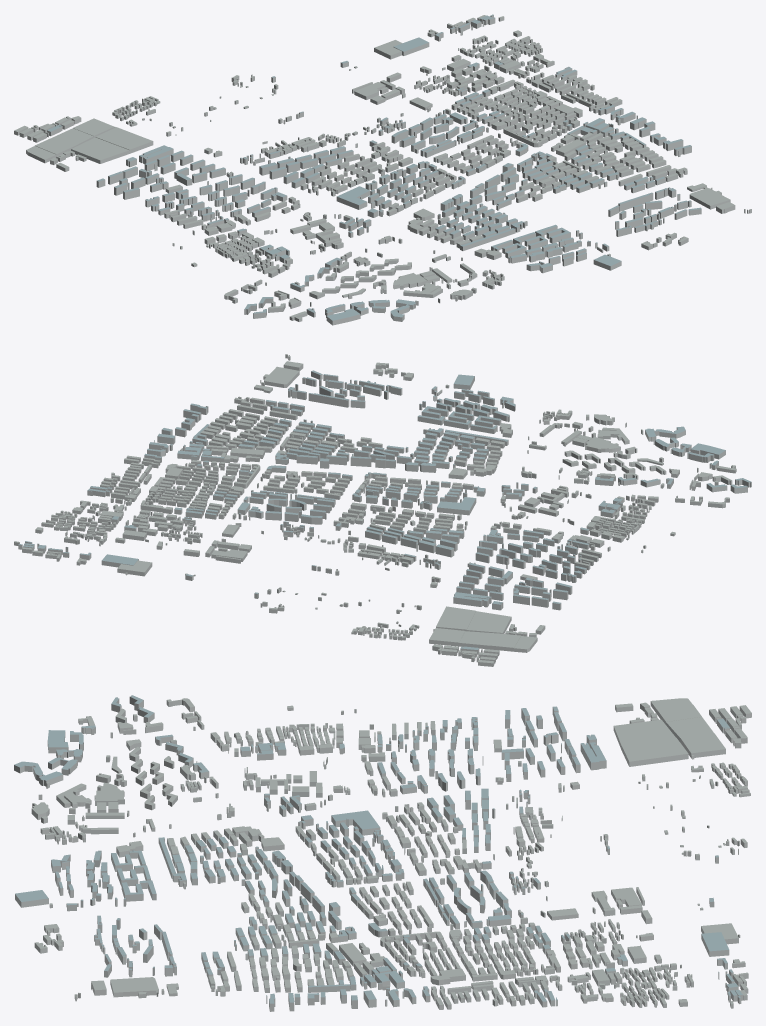
File: far.glb
The picture shows the model from 3 angles, top to bottom: view 1: azimuth 30°, elevation 25°; view 2: azimuth 150°, elevation 25°; view 3: azimuth 270°, elevation 25°; orthographic projection. The views are drawn at different scales.
Bounding box in the file's own units: 2142 × 33.35 × 2157.
